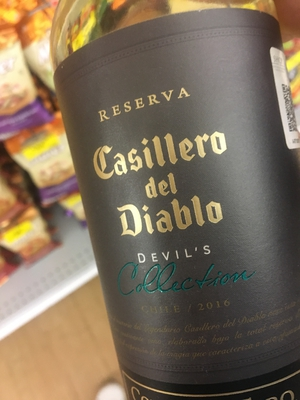casillero del diablo devils collection verde: (47, 15, 299, 400)
